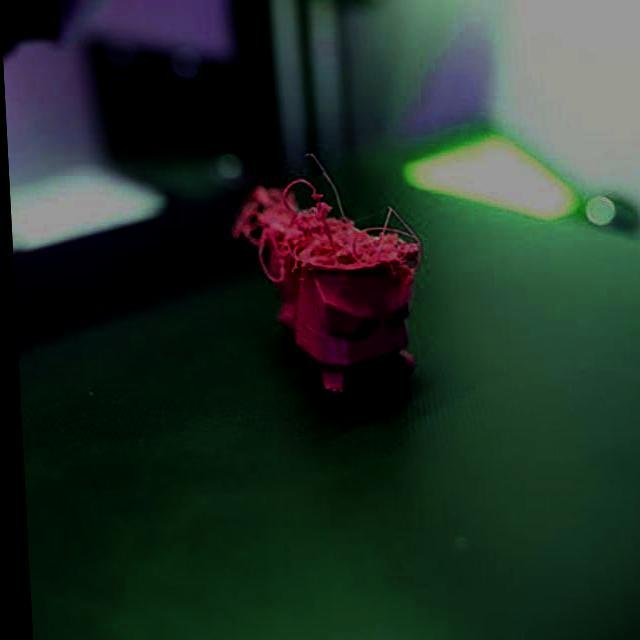spaghetti: (223, 153, 422, 286)
